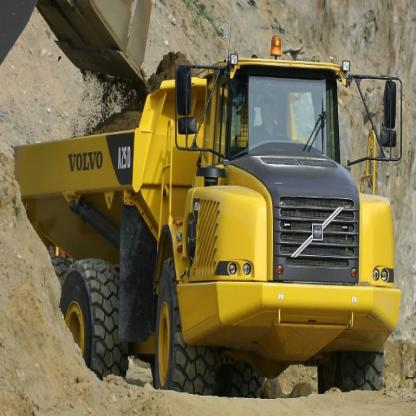dump_truck: (13, 56, 402, 401)
